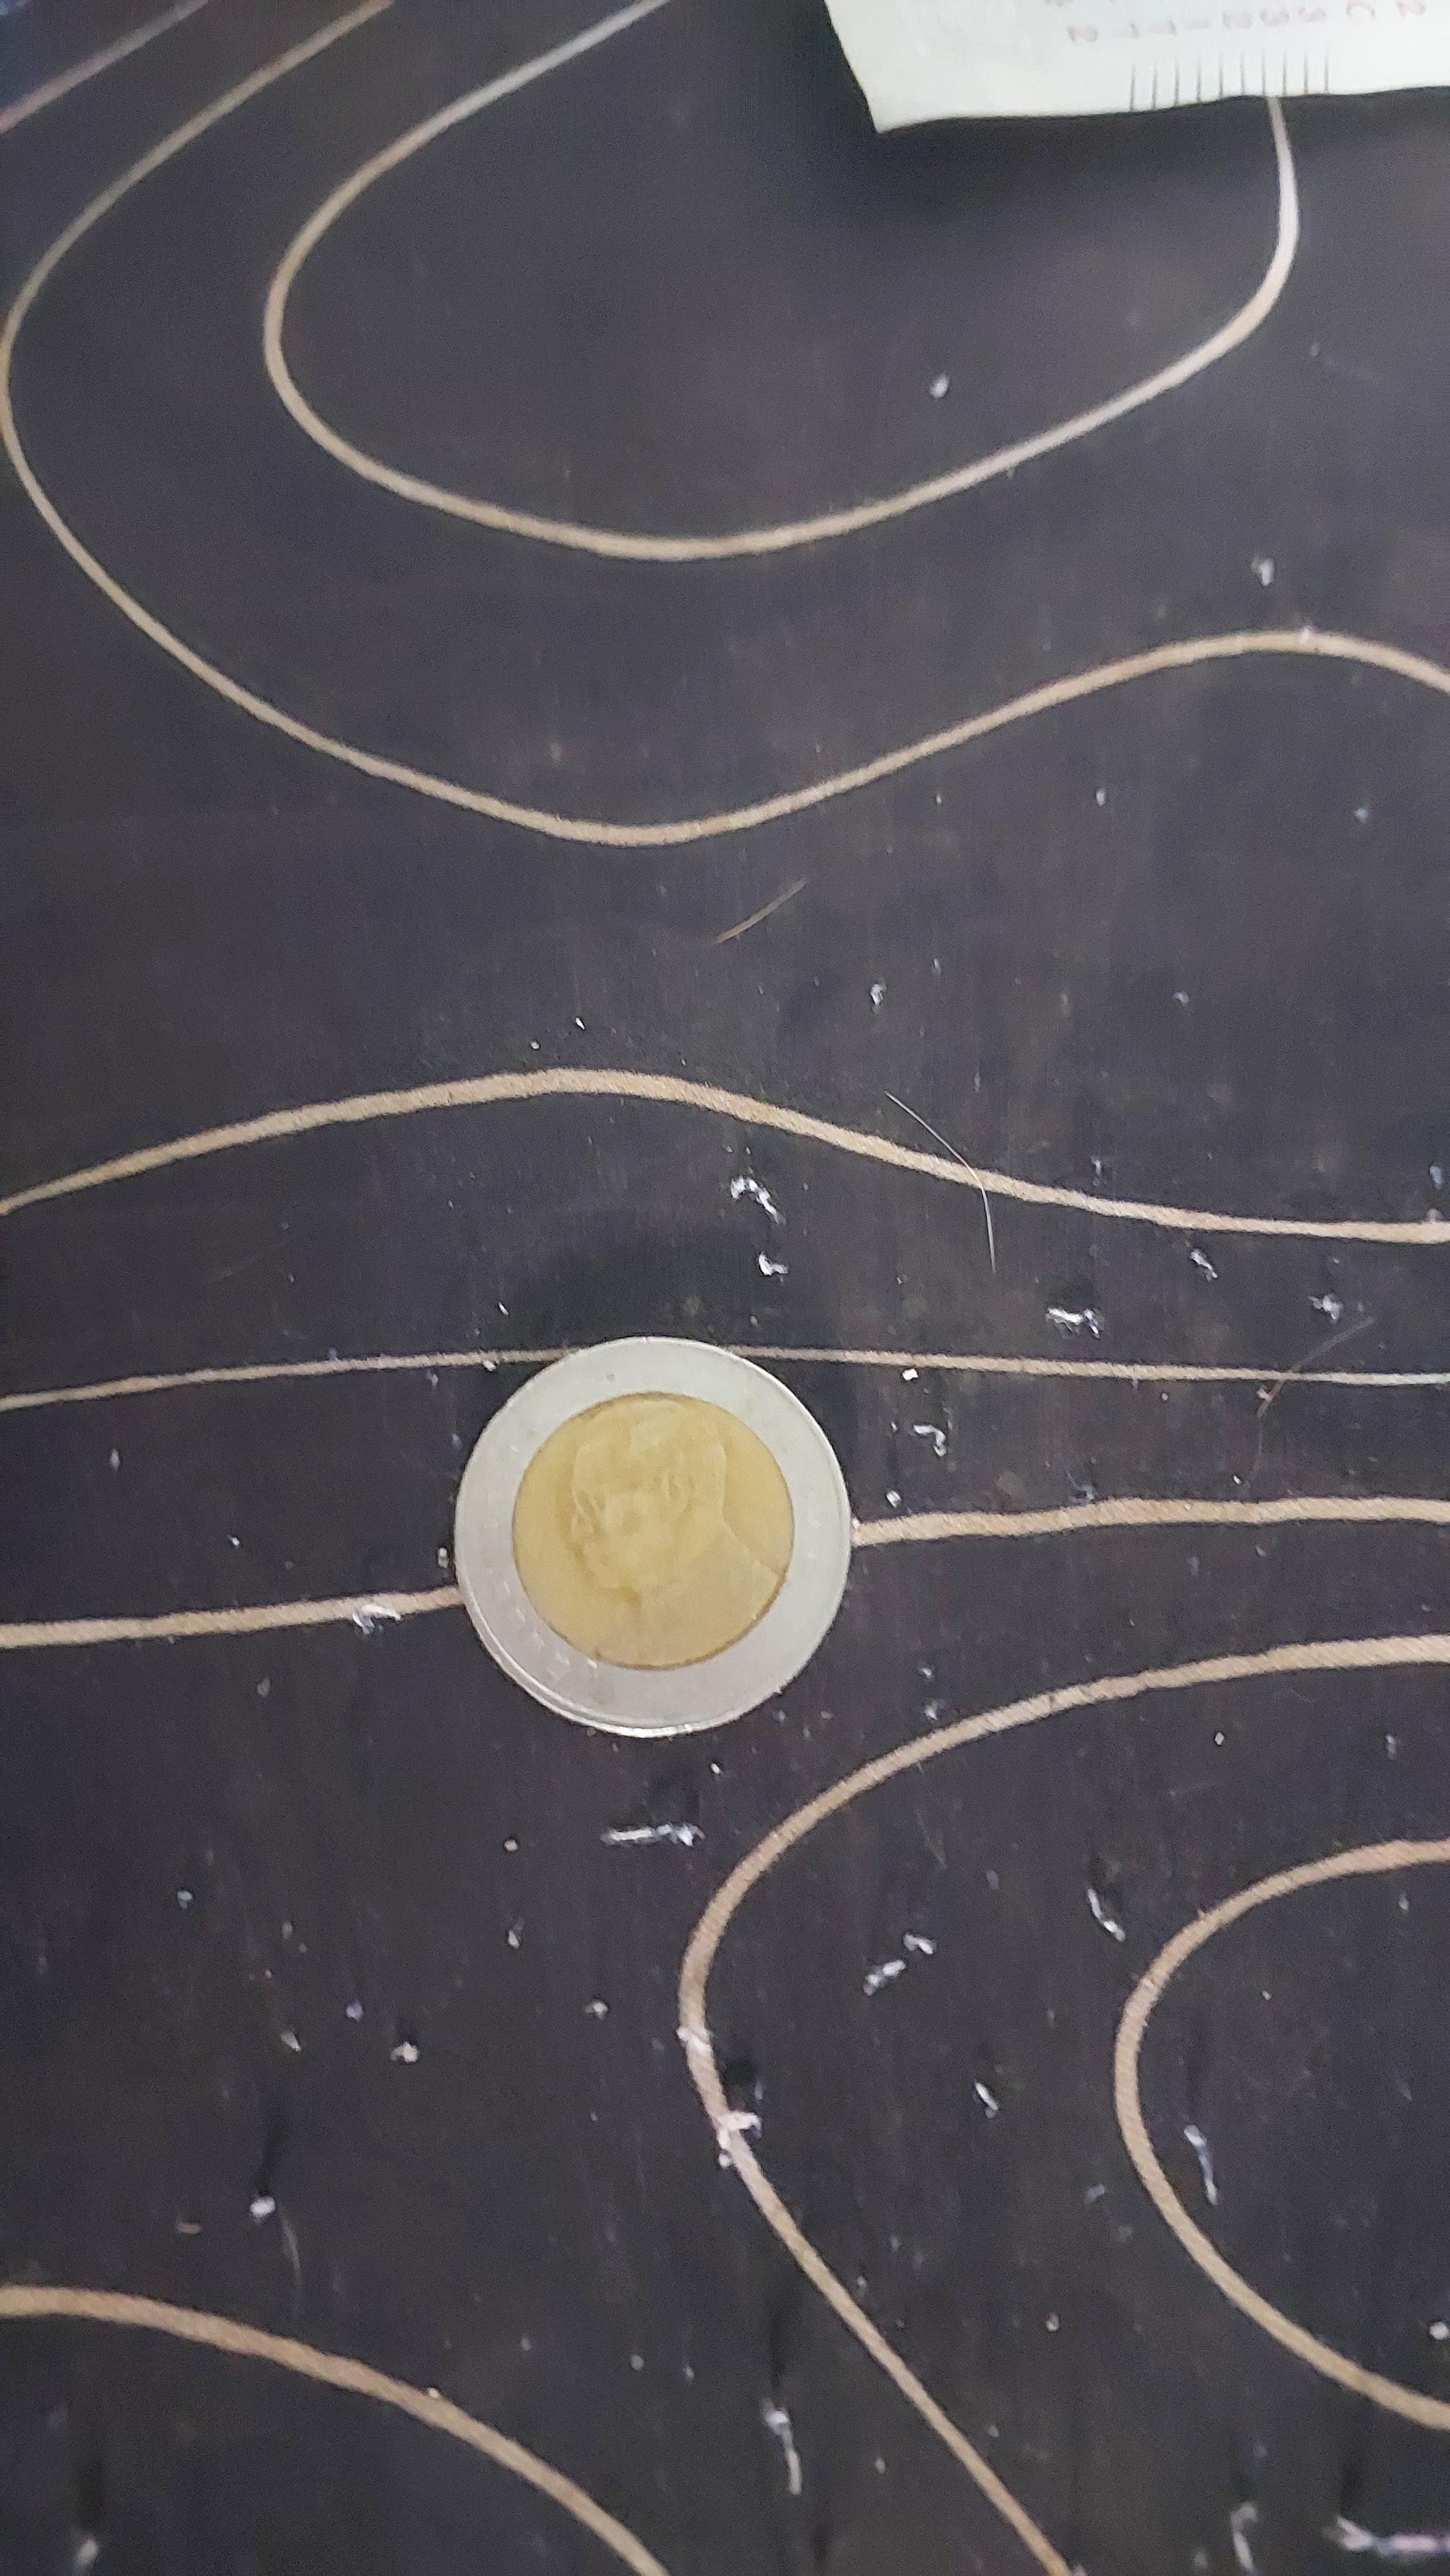10baht: (439, 1256, 969, 1923)
